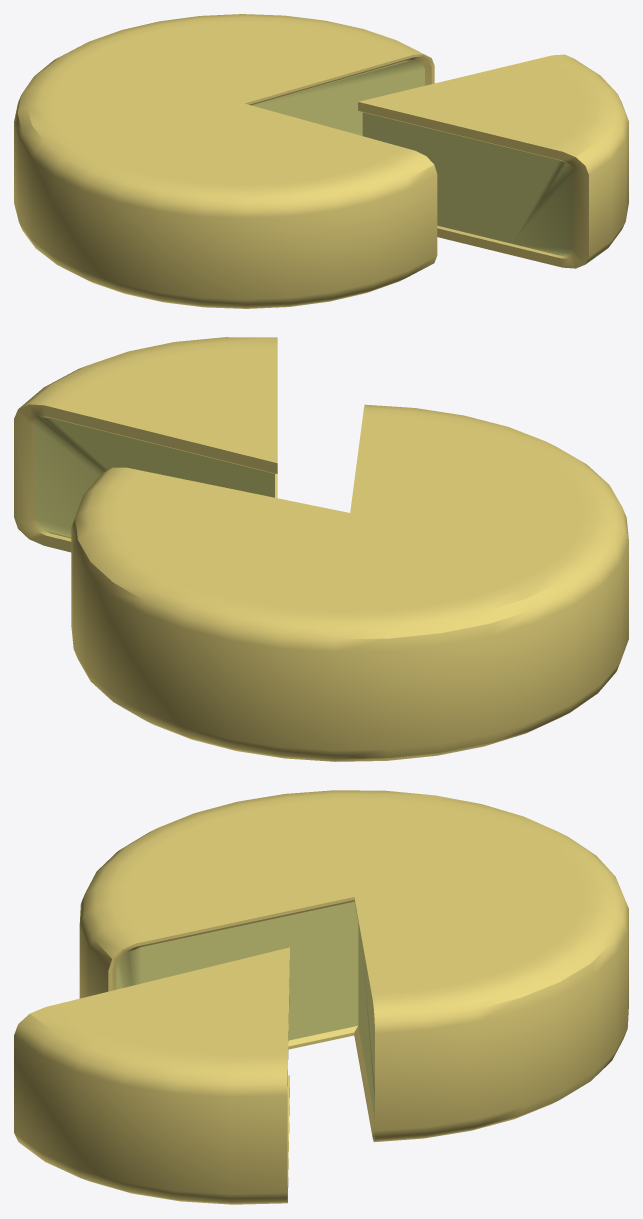
File: cheese.fbx
The picture shows the model from 3 angles, top to bottom: view 1: azimuth 30°, elevation 25°; view 2: azimuth 150°, elevation 25°; view 3: azimuth 270°, elevation 25°; orthographic projection. The views are drawn at different scales.
Parts seen in each view (by area): view 1: 円柱.001, 円柱.002; view 2: 円柱.001, 円柱.002; view 3: 円柱.001, 円柱.002.
Boxes of the visible parts, x1,y1,x2,y2 form: 円柱.001: [14, 14, 437, 308]; 円柱.002: [358, 54, 628, 268]; 円柱.001: [71, 404, 628, 761]; 円柱.002: [14, 337, 277, 552]; 円柱.001: [79, 790, 628, 1142]; 円柱.002: [14, 947, 289, 1204].
Size of what is drawn, in the model's own units: 117 by 25.71 by 103.
